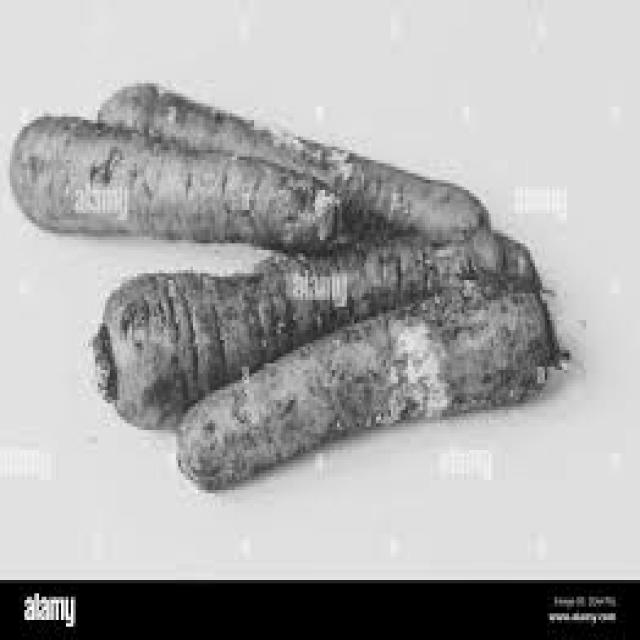Stale_Carrot: (81, 238, 539, 437), (174, 271, 580, 488), (90, 81, 506, 241), (41, 129, 387, 244)
